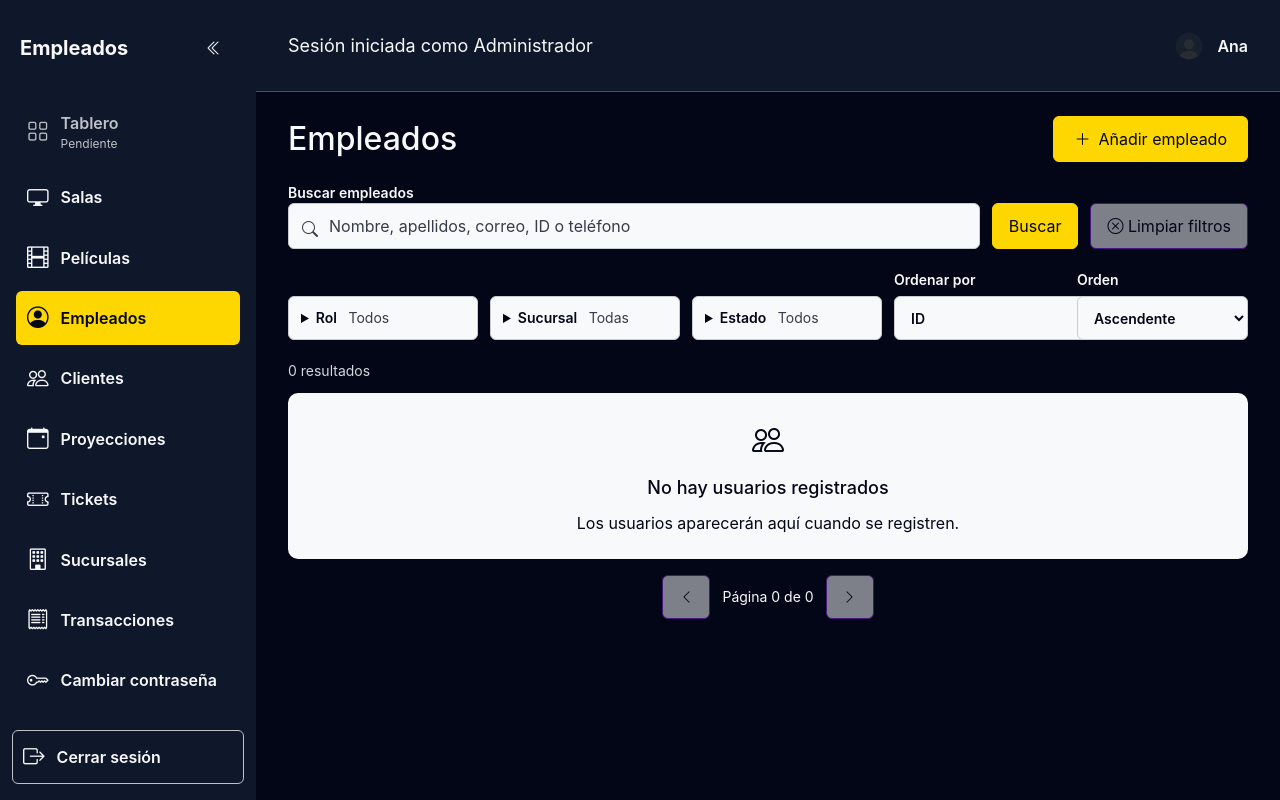
DashboardView › rejects invalid theater seat counts before submitting
Click the button with aria-label "Salas" at point(128, 197), box 16,170 -> 240,224
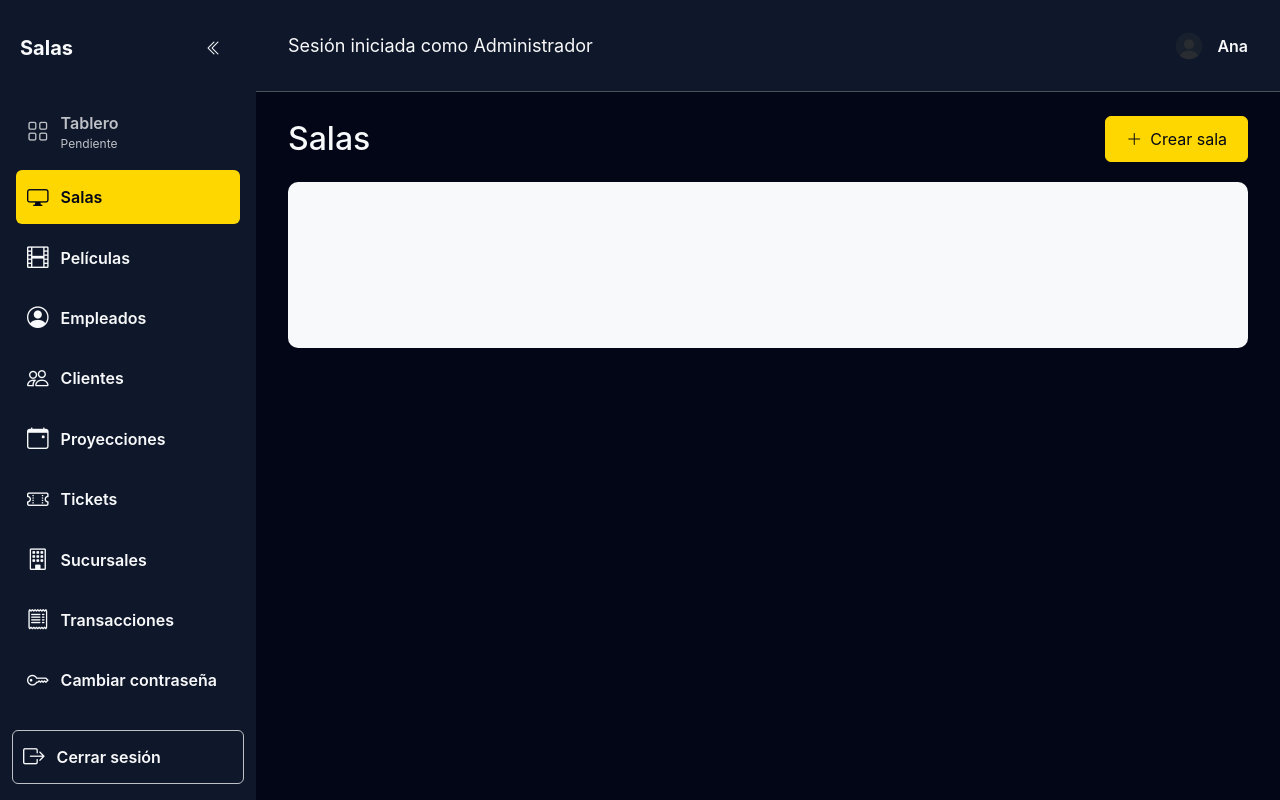
Click the button with class "add-user-button" at point(1177, 139), box 1105,116 -> 1248,162
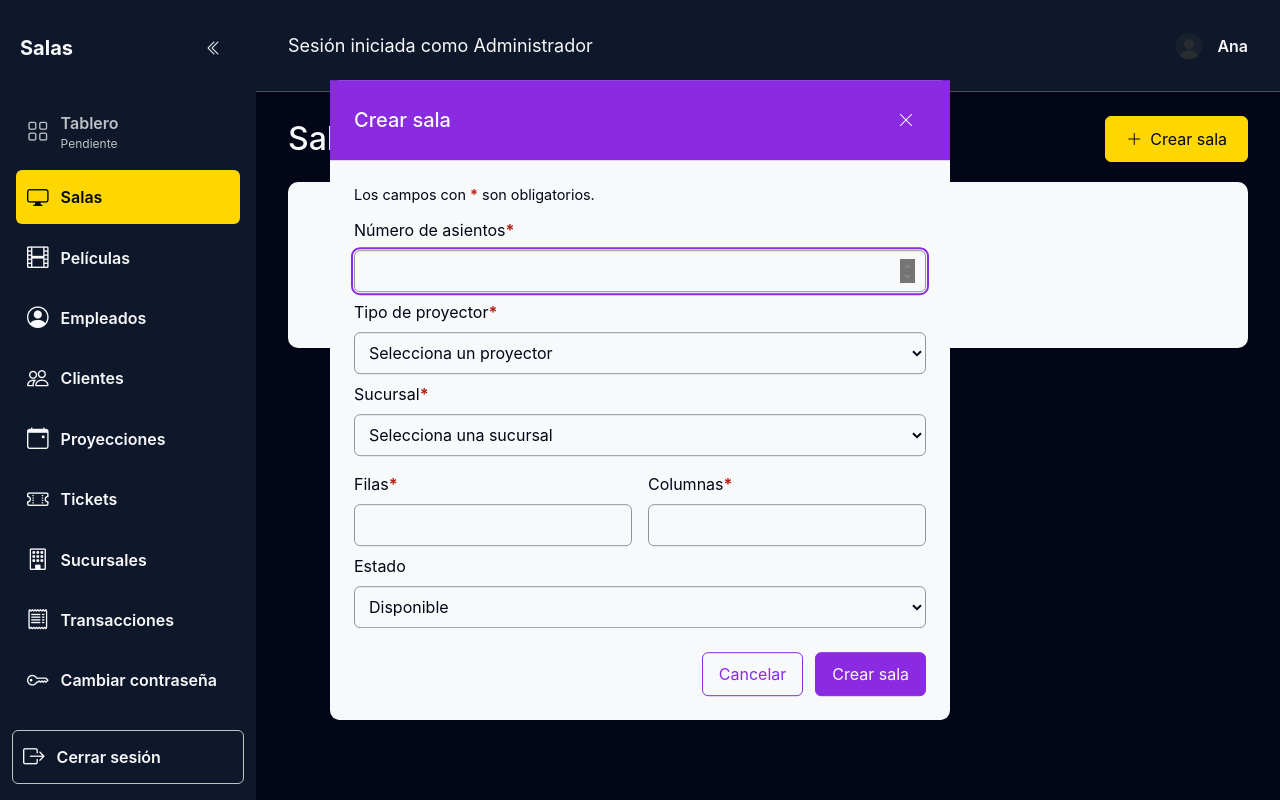
Type "5001" into the number field named "numberOfSeats" at point(640, 271), box 354,250 -> 926,292
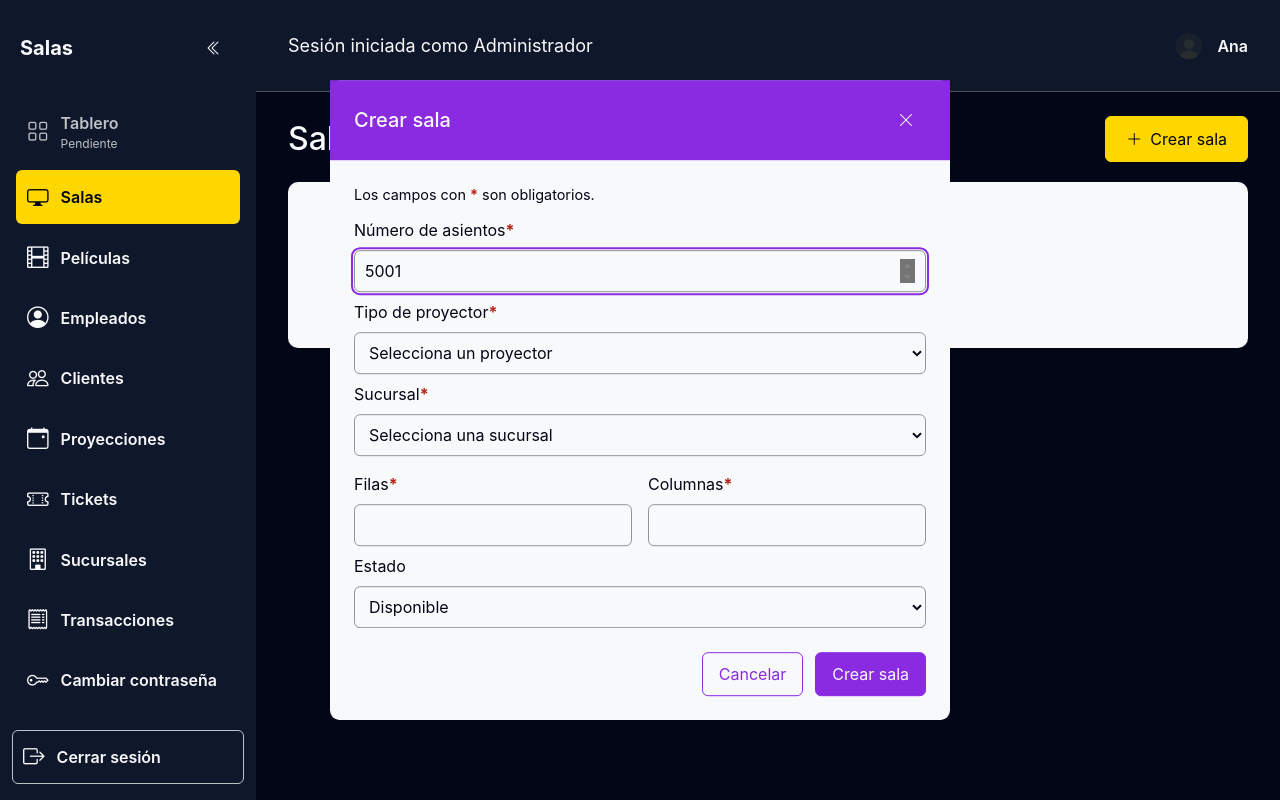
Submit the form, box 330,160 -> 950,720
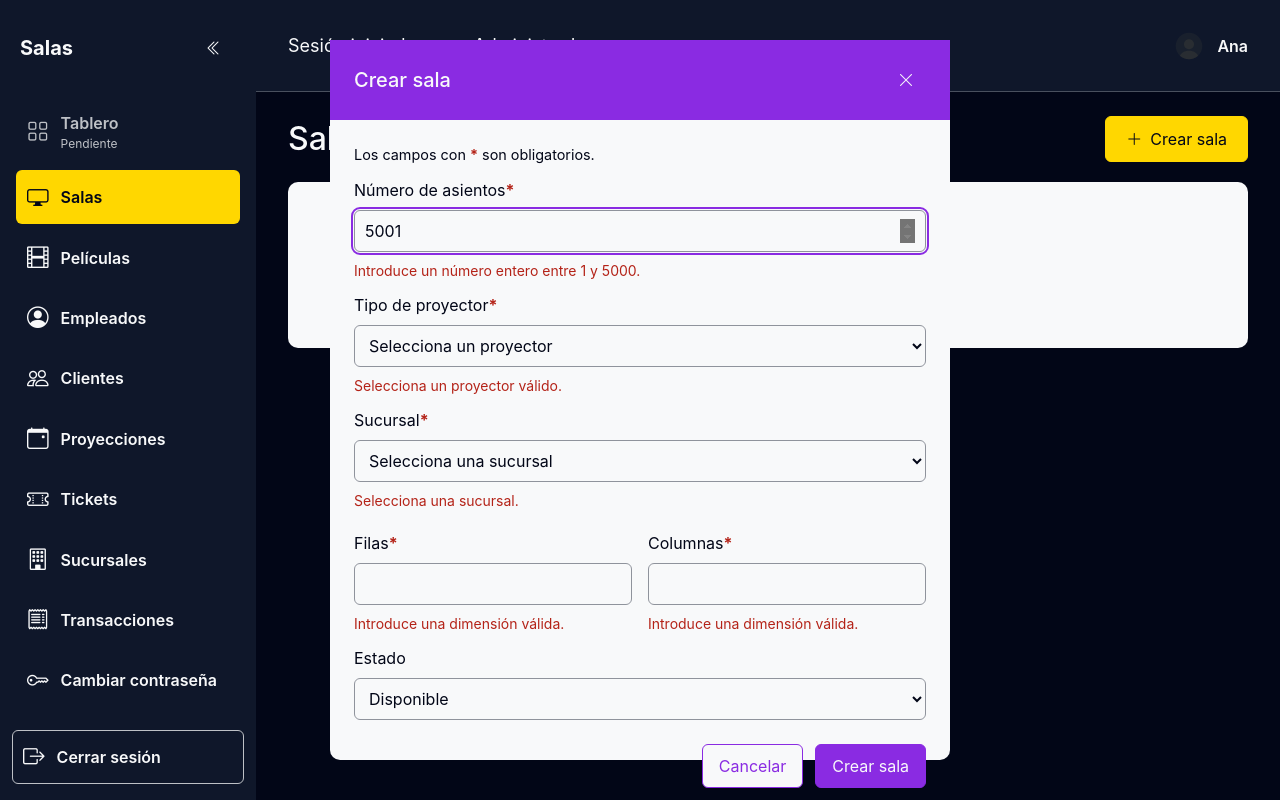
Result: the text with class "field-error" shows "entre 1 y 5000" at 354,262 -> 640,279
